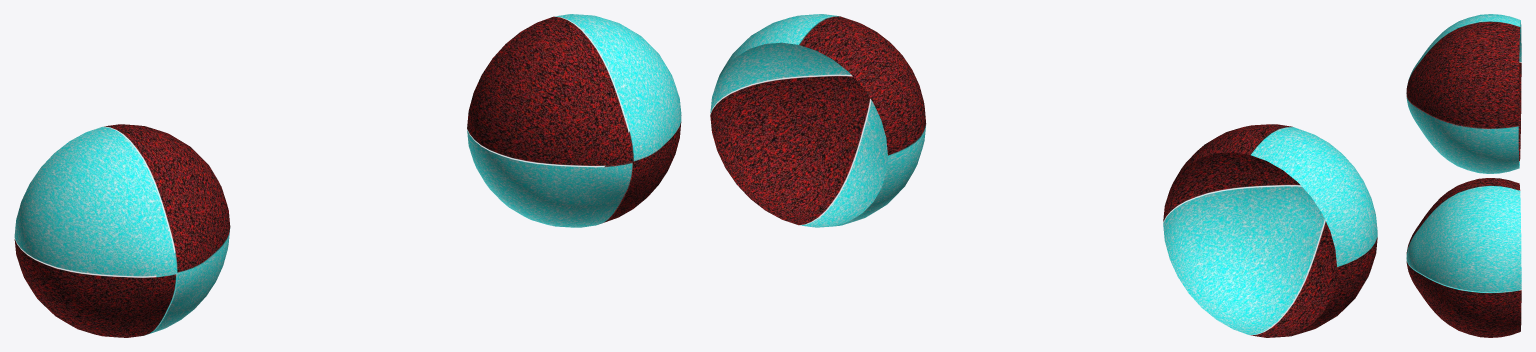
3 views of the same model, side by side, from view 1: azimuth 30°, elevation 25°; view 2: azimuth 150°, elevation 25°; view 3: azimuth 270°, elevation 25° (orthographic). The views are drawn at different scales.
Visible parts, largest first — view 1: SM_ZamMage_StaffHead_LowPoly_LOD0; view 2: SM_ZamMage_StaffHead_LowPoly_LOD0; view 3: SM_ZamMage_StaffHead_LowPoly_LOD0.
Part boxes in pixels (x1,y1,x2,y2): SM_ZamMage_StaffHead_LowPoly_LOD0: (14,14,681,337); SM_ZamMage_StaffHead_LowPoly_LOD0: (710,14,1377,337); SM_ZamMage_StaffHead_LowPoly_LOD0: (1406,14,1521,337).
Bounding box in the file's own units: 0.1138 × 0.033 × 0.0238.
